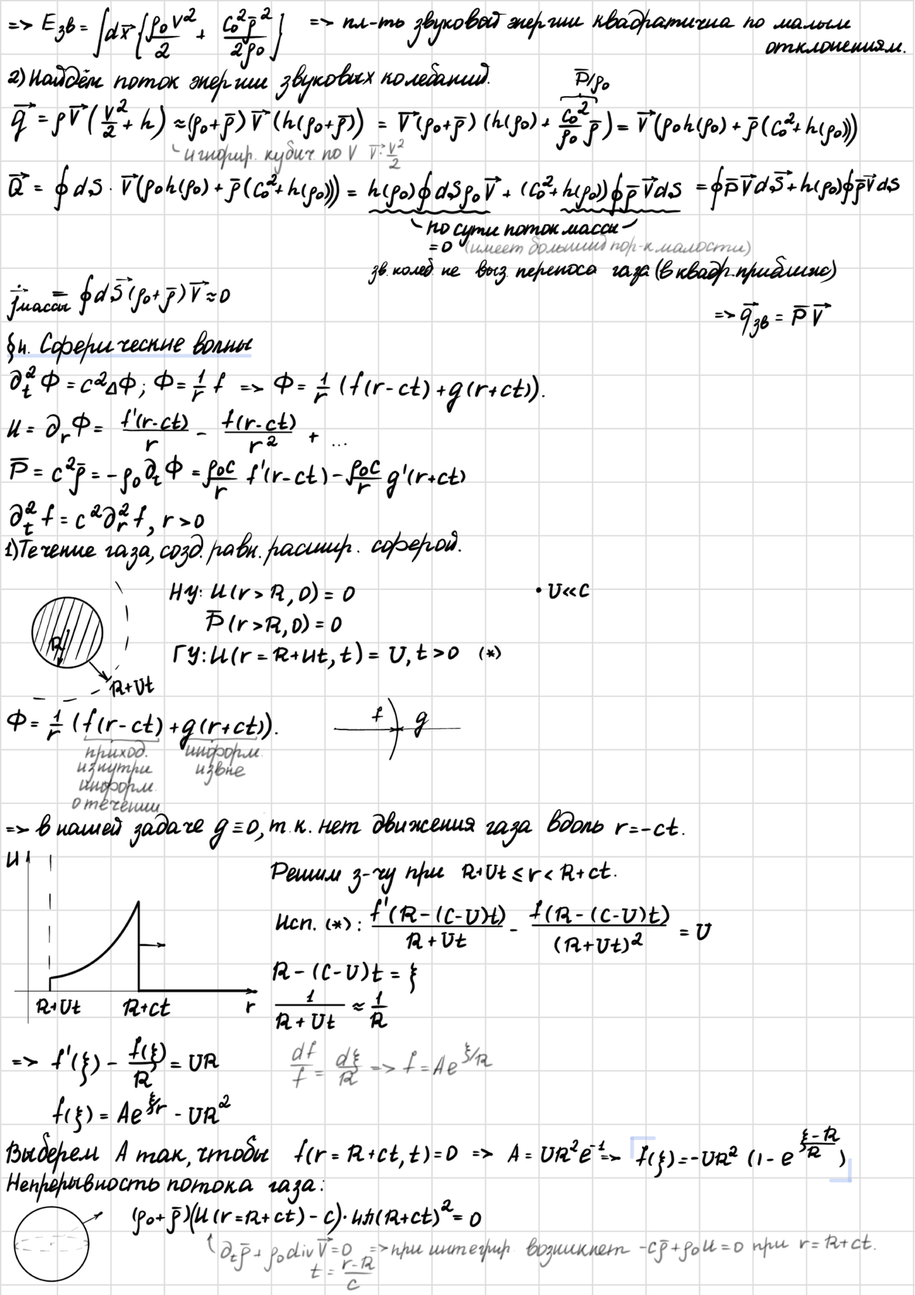formula: (9, 101, 867, 149), (6, 171, 908, 210), (294, 1124, 865, 1174), (5, 367, 554, 408), (371, 897, 718, 959), (7, 456, 476, 500), (4, 5, 293, 60), (5, 409, 357, 454), (286, 1044, 503, 1095), (3, 276, 240, 321), (126, 1203, 488, 1231), (10, 1040, 226, 1081), (211, 644, 470, 672), (8, 501, 208, 535), (708, 295, 845, 343), (49, 1095, 233, 1128), (276, 989, 396, 1036), (463, 858, 621, 889), (206, 608, 344, 639), (218, 1236, 355, 1267), (270, 959, 421, 987), (213, 580, 360, 606), (640, 1236, 744, 1267), (795, 1231, 877, 1259), (530, 575, 597, 608), (556, 67, 613, 103), (614, 818, 686, 838), (209, 815, 259, 840)
picture: (2, 844, 264, 1026), (5, 567, 160, 705), (325, 690, 470, 777), (8, 1202, 111, 1286)
text: (7, 64, 497, 97), (340, 5, 854, 32), (368, 260, 842, 285), (4, 538, 467, 563), (3, 331, 261, 365), (7, 1172, 328, 1197), (371, 1236, 635, 1266), (4, 1139, 274, 1168), (263, 817, 603, 840), (71, 738, 164, 813), (185, 140, 407, 167), (410, 216, 642, 238), (6, 818, 208, 842), (272, 860, 448, 887), (764, 36, 910, 63), (187, 742, 267, 787), (271, 910, 363, 939), (171, 639, 207, 670), (168, 577, 204, 604), (753, 1238, 788, 1257), (478, 644, 505, 664)
